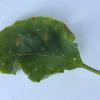Bell_pepper leaf spot: (0, 14, 85, 82)
